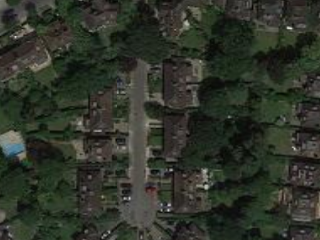Tree: (122, 26, 166, 62), (206, 21, 250, 57), (196, 80, 240, 116), (190, 116, 234, 152), (227, 121, 271, 157), (221, 164, 265, 200), (26, 176, 70, 212), (52, 71, 88, 96), (265, 53, 301, 78), (284, 38, 320, 63)
